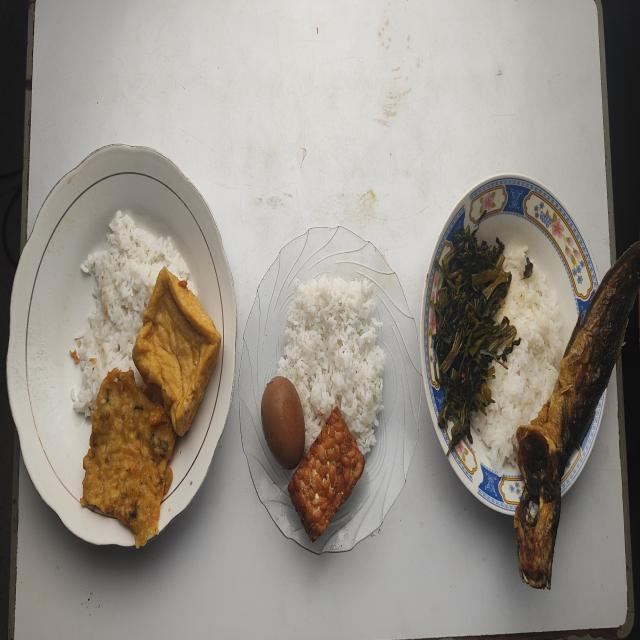nasi_putih: (71, 210, 189, 416), (471, 244, 563, 470), (276, 275, 386, 454)
tahu_goreng: (132, 267, 222, 436)
tempe_goreng: (288, 406, 364, 540)
tumis_kangkung: (428, 226, 520, 448)
